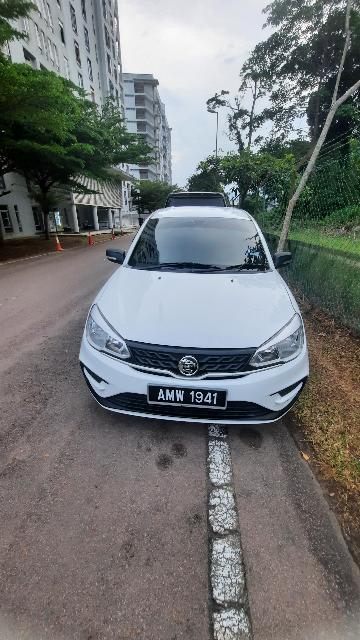License_Plate: (143, 380, 230, 414)
car: (75, 202, 318, 434)
